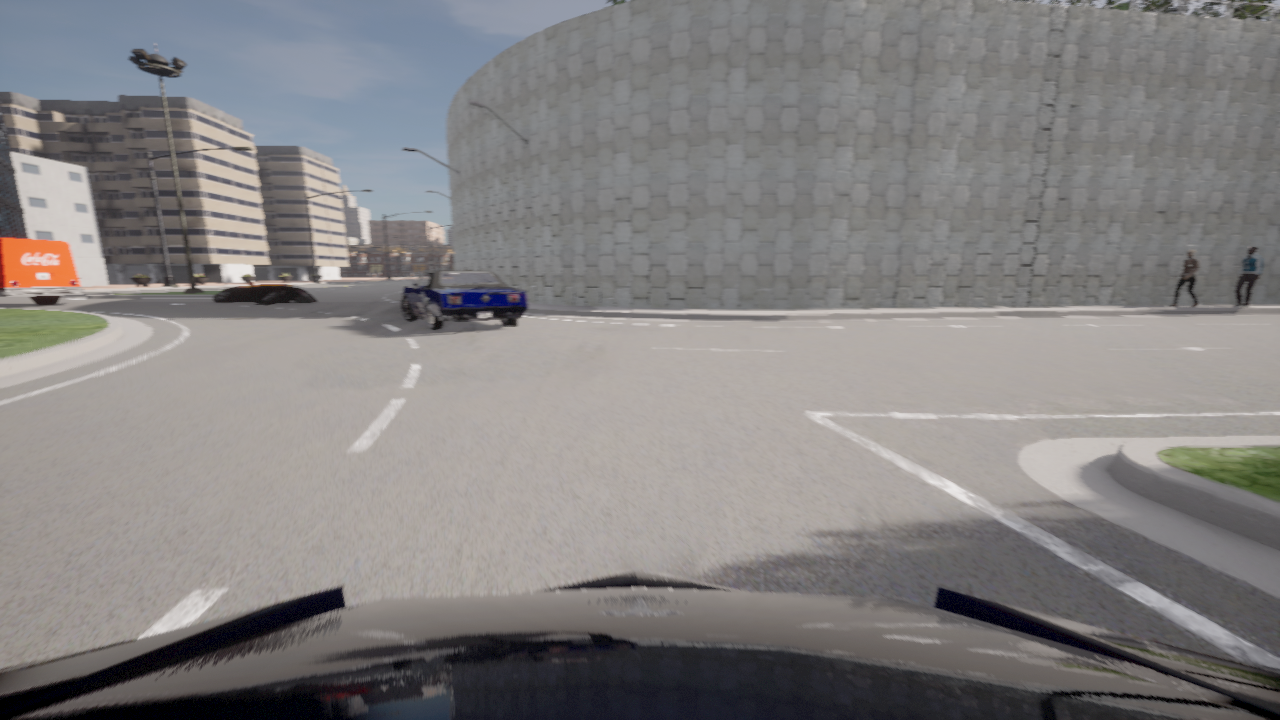cyclist: (0, 569, 1279, 719), (402, 269, 527, 330), (213, 281, 318, 303)
pedestrian: (1232, 246, 1263, 307), (1168, 249, 1199, 306)
